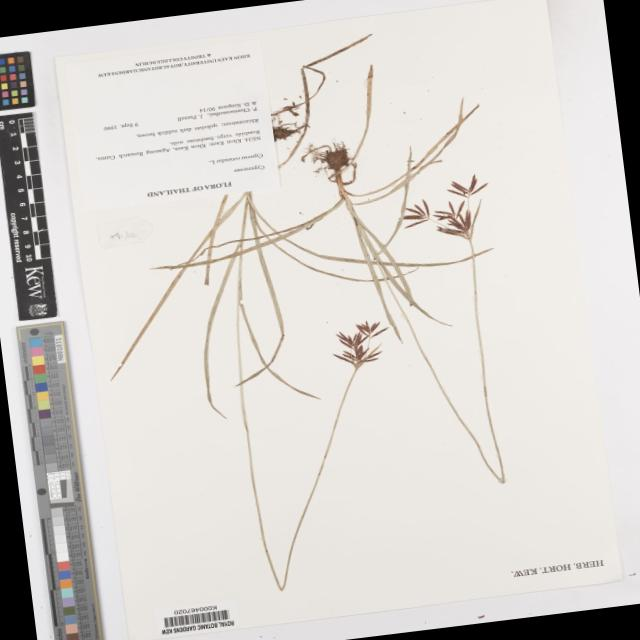cyperus: (394, 165, 507, 268), (327, 309, 399, 378)
